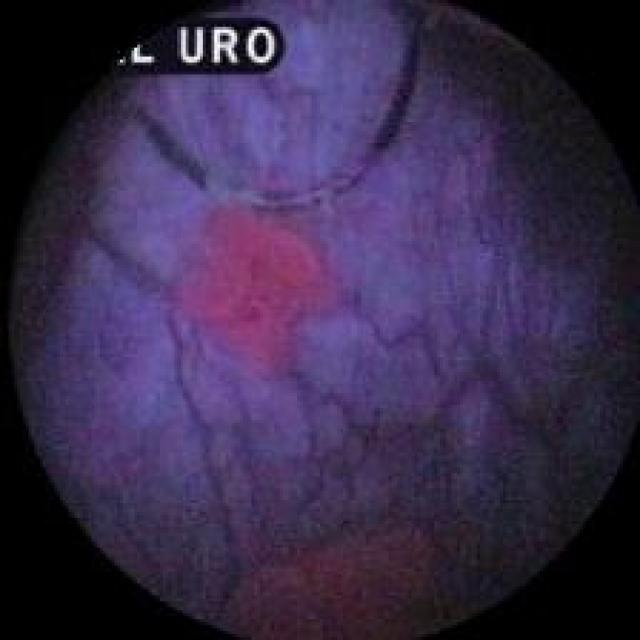color misalignment: (110, 13, 279, 74)
contrast: (13, 89, 114, 363)
instrument: (98, 9, 434, 216)
